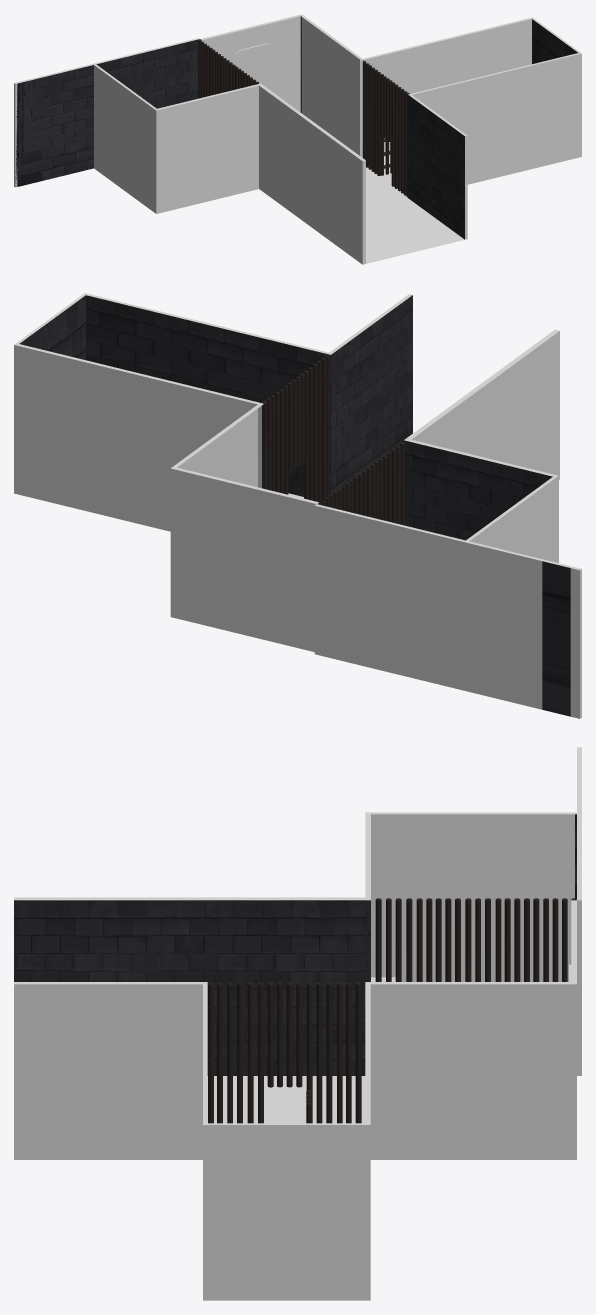
The model's file is sala_1.fbx.
The picture shows the model from 3 angles, top to bottom: view 1: azimuth 30°, elevation 25°; view 2: azimuth 150°, elevation 25°; view 3: azimuth 270°, elevation 25°; orthographic projection. The views are drawn at different scales.
Parts seen in each view (by area): view 1: paredes, barra carcel 1, barra carcel 2, puerta sala, barra puerta carcel 1; view 2: paredes, barra carcel 1, barra carcel 2; view 3: paredes, barra carcel 1, barra carcel 2.
Part boxes in pixels (x1,y1,x2,y2): paredes: (14,14,581,264); barra carcel 1: (363,61,409,197); barra carcel 2: (198,39,258,98); puerta sala: (229,43,280,97); barra puerta carcel 1: (381,136,391,175); paredes: (14,293,581,718); barra carcel 1: (262,355,330,502); barra carcel 2: (317,442,404,525); paredes: (14,747,581,1300); barra carcel 1: (208,982,361,1123); barra carcel 2: (375,898,576,981).
Bounding box in the file's own units: 923 × 200 × 586.
